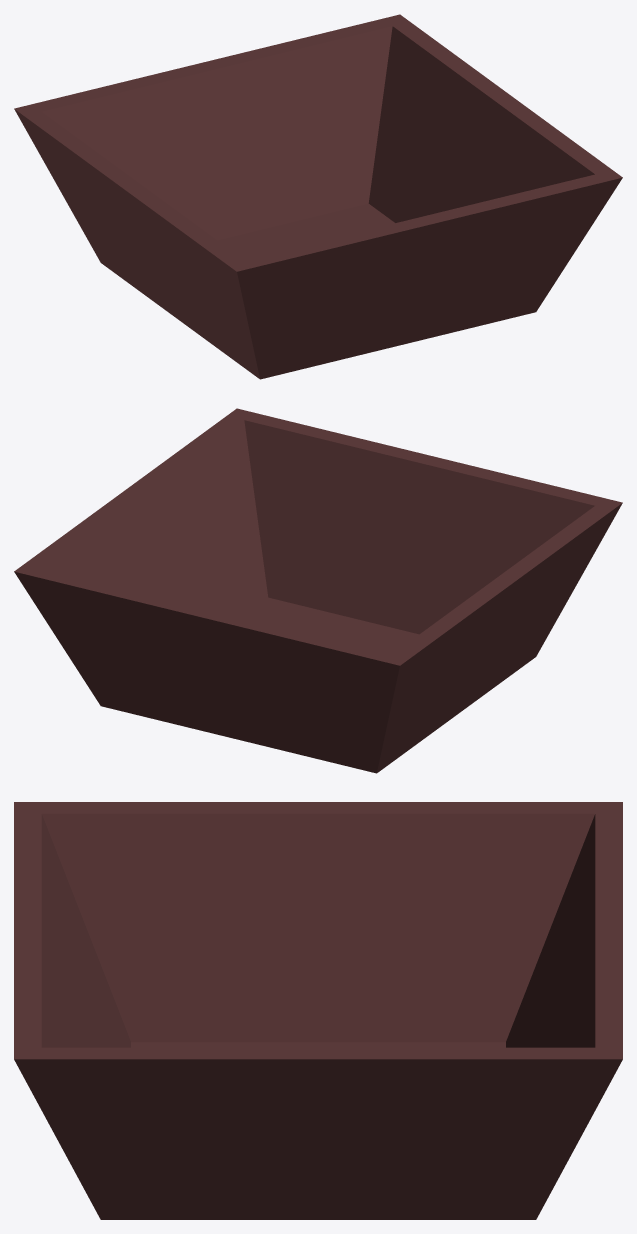
File: coal_holder.fbx
3 renders of one model, top to bottom at view 1: azimuth 30°, elevation 25°; view 2: azimuth 150°, elevation 25°; view 3: azimuth 270°, elevation 25°, orthographic. The views are drawn at different scales.
Visible parts, largest first — view 1: pCube2; view 2: pCube2; view 3: pCube2.
Boxes of the visible parts, bbox=[...] form: pCube2: bbox=[14, 14, 622, 379]; pCube2: bbox=[14, 408, 622, 773]; pCube2: bbox=[14, 802, 622, 1219].
Size of the model in its own units: 112 by 40.14 by 112.
